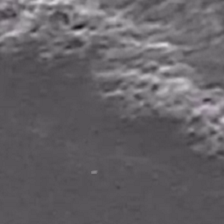Target: (89, 169, 99, 175)
